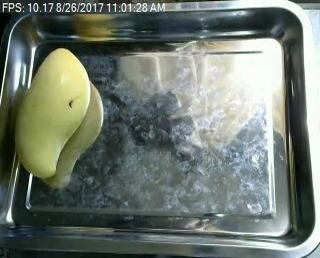Mango: (11, 44, 96, 181)
